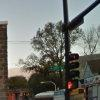Traffic light: (58, 43, 87, 93)
